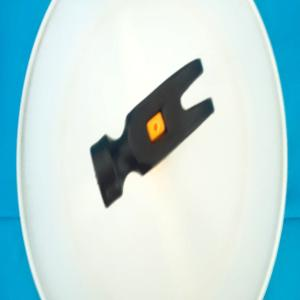martelo: (90, 58, 215, 209)
